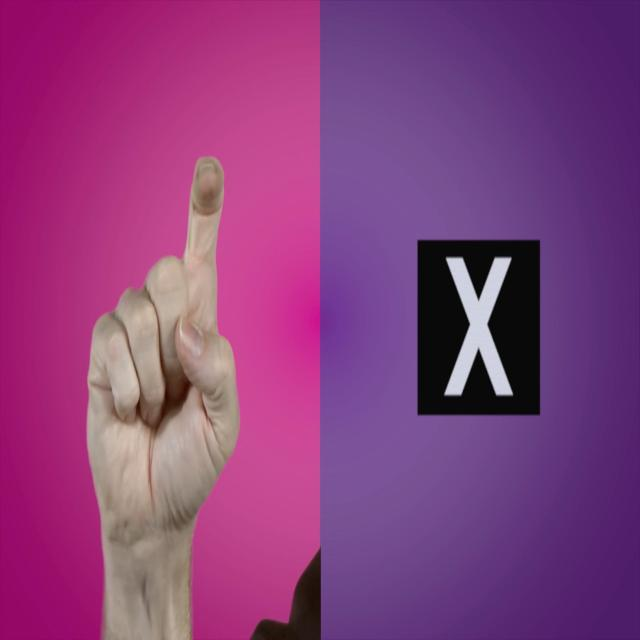X: (54, 119, 275, 640)
